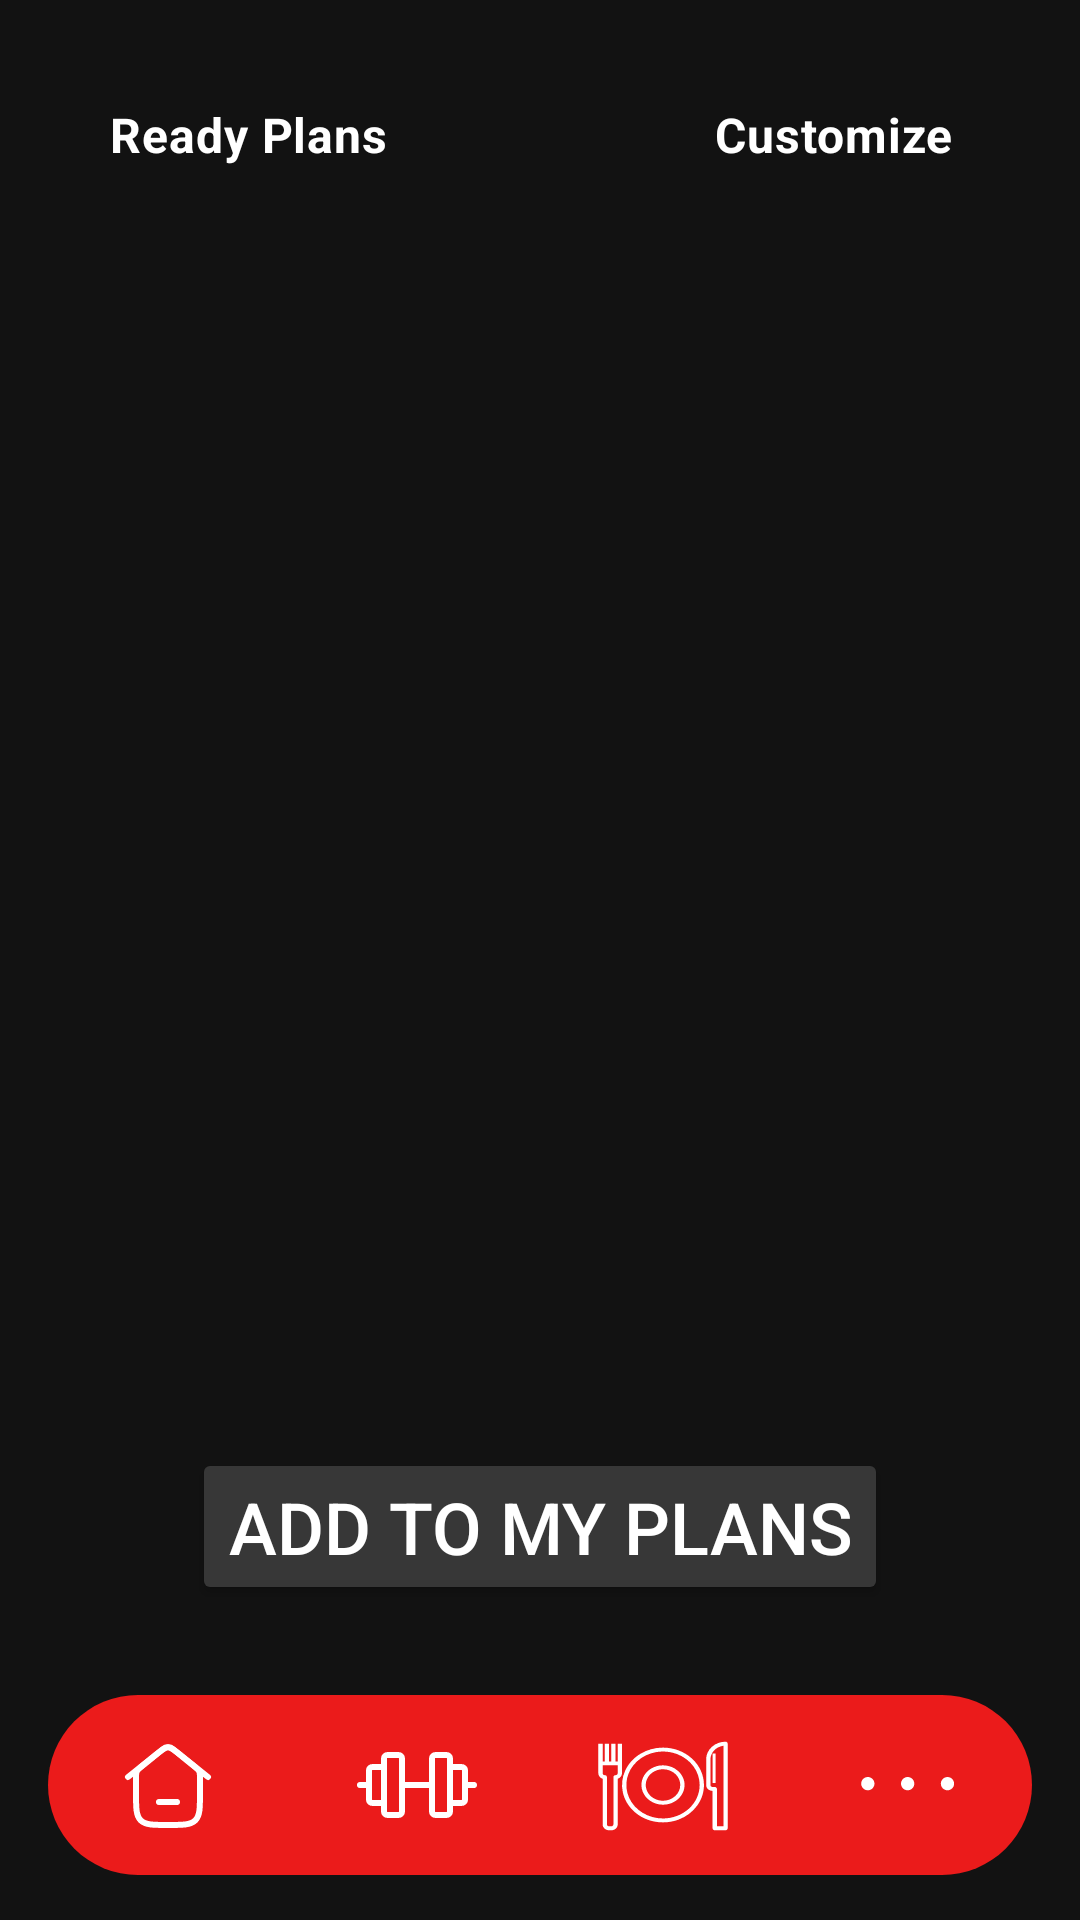

Where icons sit on this 1080px x 1920px app screen, as (x1, y1, x2, y2):
fitness: (357, 1752, 477, 1818)
food: (598, 1741, 728, 1831)
Home: (125, 1744, 211, 1828)
